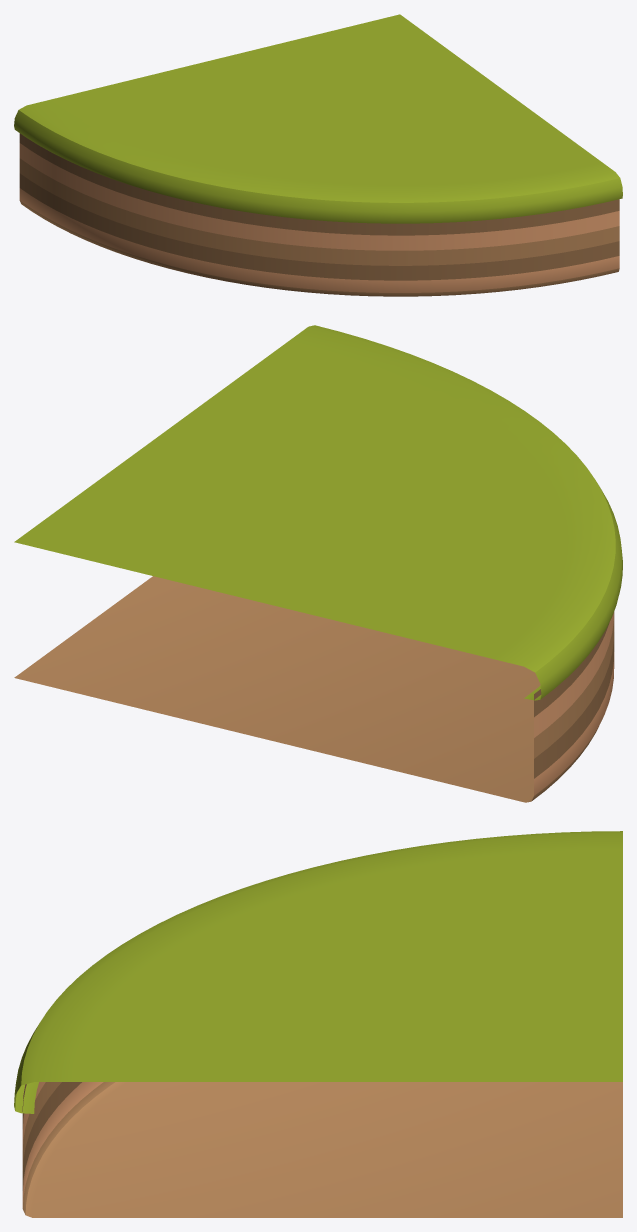
Rendered from platform_grass_corner_round4.gltf.
The picture shows the model from 3 angles, top to bottom: view 1: azimuth 30°, elevation 25°; view 2: azimuth 150°, elevation 25°; view 3: azimuth 270°, elevation 25°; orthographic projection. The views are drawn at different scales.
Visible parts, largest first — view 1: Cube_Grass_Corner_Round4; view 2: Cube_Grass_Corner_Round4; view 3: Cube_Grass_Corner_Round4.
Part boxes in pixels (x1,y1,x2,y2): Cube_Grass_Corner_Round4: (14, 14, 622, 296); Cube_Grass_Corner_Round4: (14, 325, 622, 802); Cube_Grass_Corner_Round4: (14, 831, 622, 1217).
Size of the model in its own units: 8.12 by 2 by 8.12.
